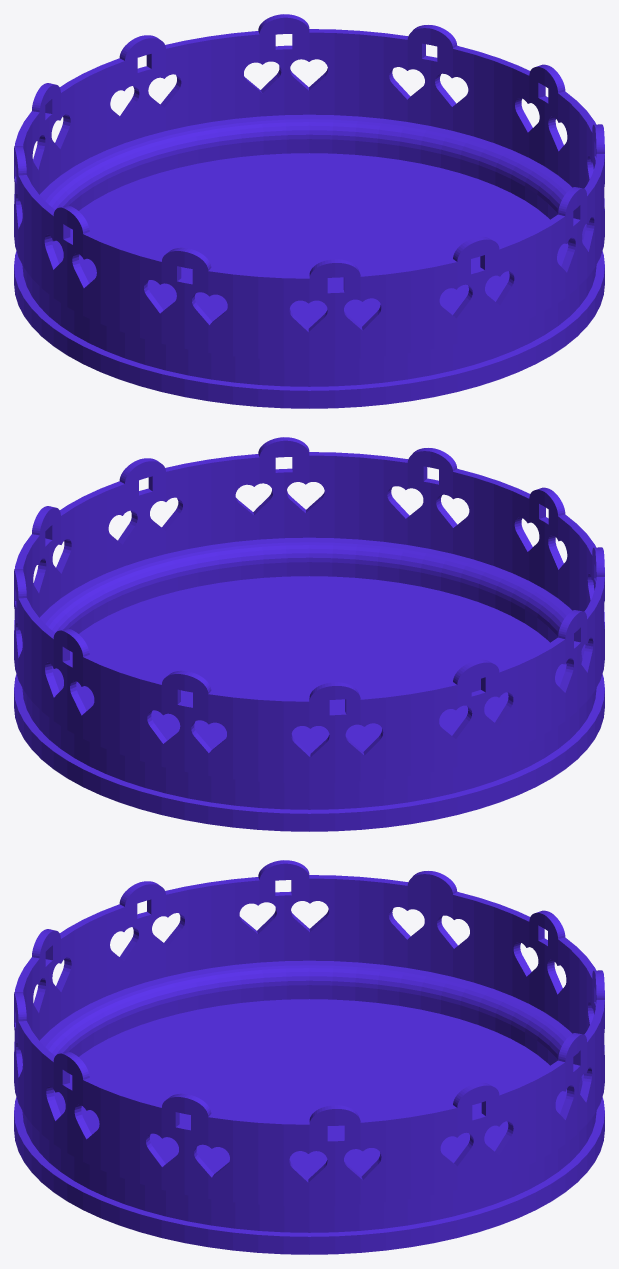
File: ashtray_final1.glb
3 views of the same model, one above another, from view 1: azimuth 30°, elevation 25°; view 2: azimuth 150°, elevation 25°; view 3: azimuth 270°, elevation 25° (orthographic).
Visible parts, largest first — view 1: Cylinder; view 2: Cylinder; view 3: Cylinder.
Part boxes in pixels (box(x1,y1,x2,y2)): Cylinder: box(14, 14, 604, 408); Cylinder: box(14, 437, 604, 831); Cylinder: box(14, 860, 604, 1254).
Size of the model in its own units: 0.07 by 0.019 by 0.07.
